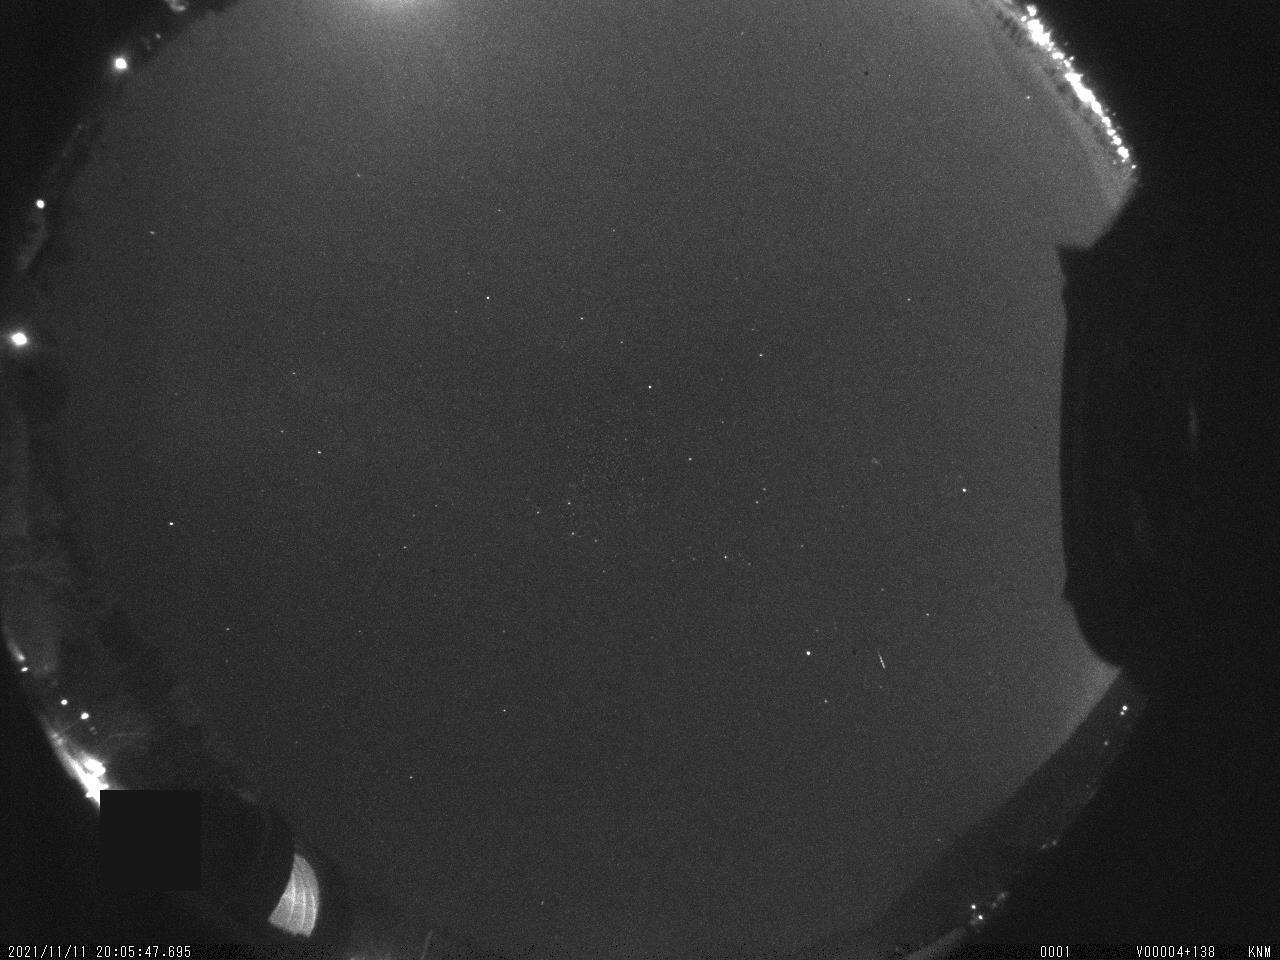meteor: (872, 648, 893, 677)
